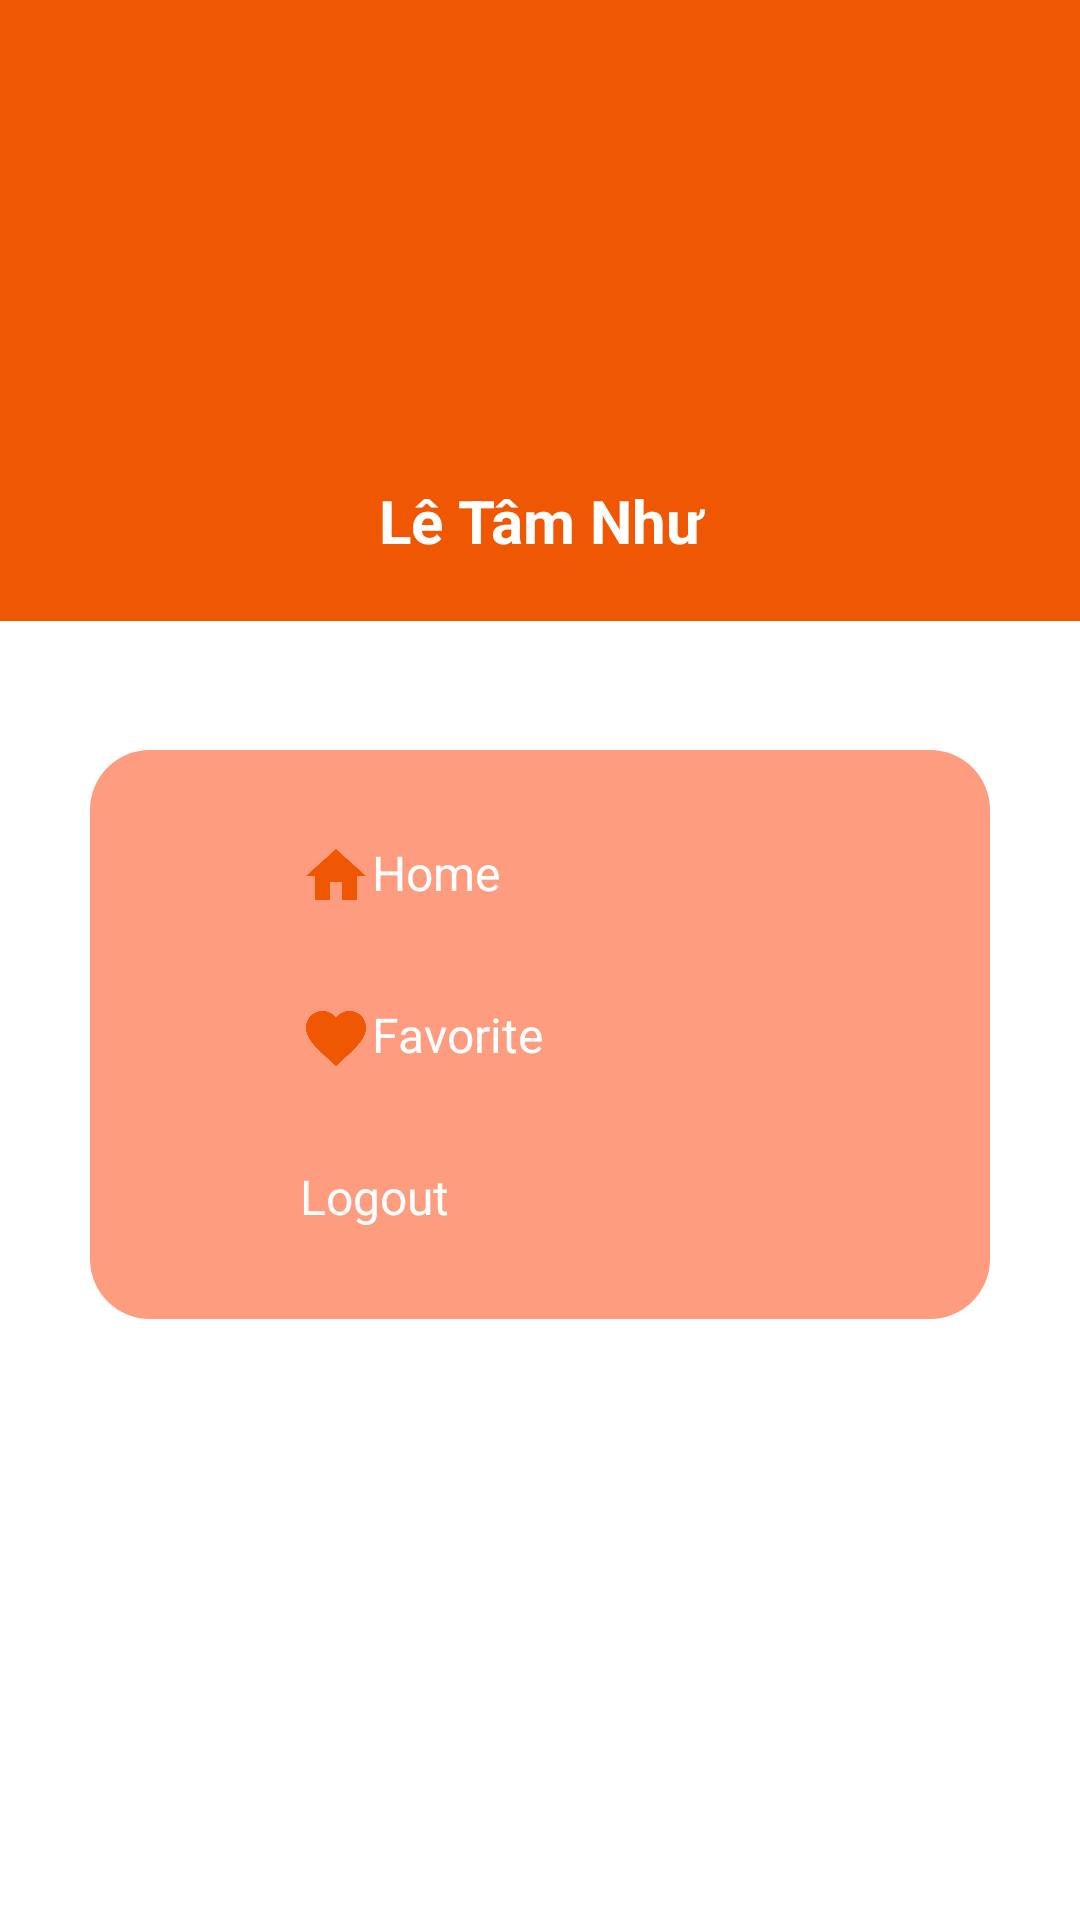

Screen size 1080 × 1920. Icon name, then its center in pixels as (x,y):
like: (336,1038)
